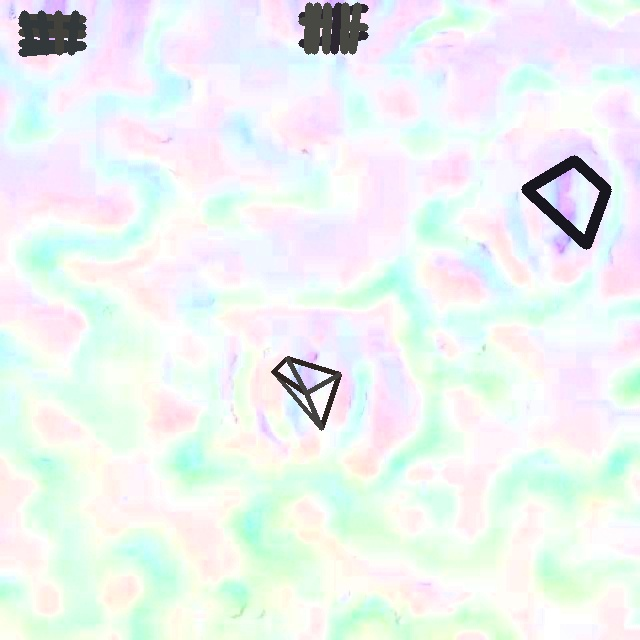open: (521, 156, 611, 248), (271, 356, 341, 430), (299, 2, 367, 53), (18, 10, 86, 55)
